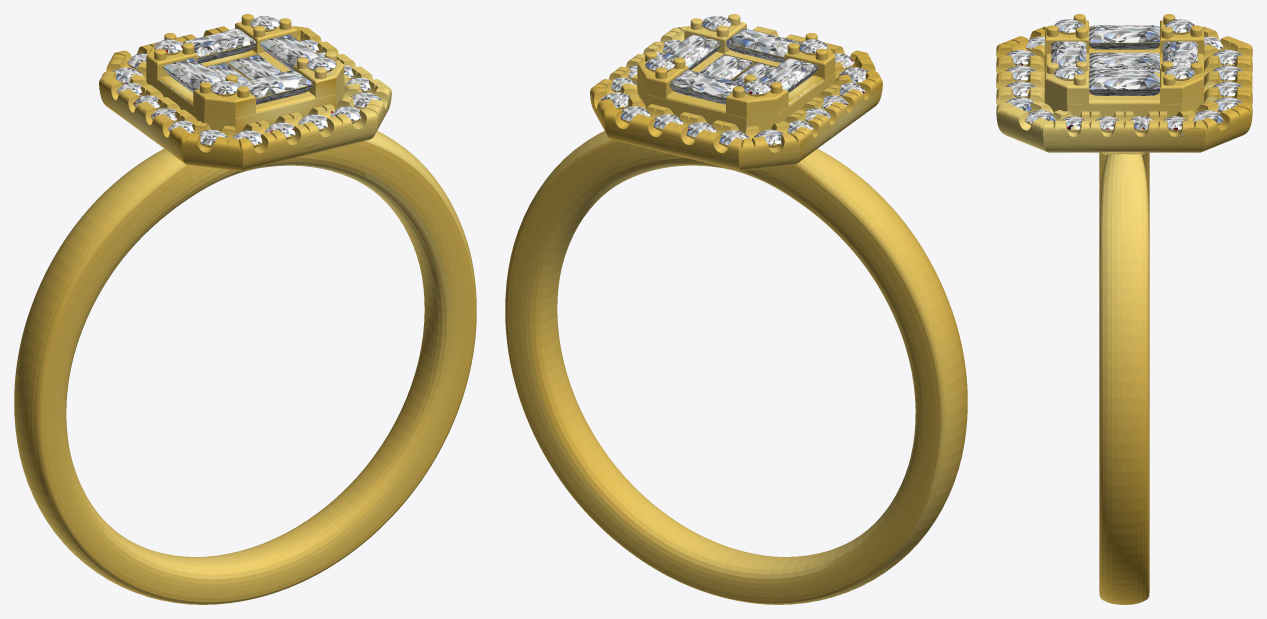
The model's file is C16.0143- Coloured.glb.
The picture shows the model from 3 angles, left to right: view 1: azimuth 30°, elevation 25°; view 2: azimuth 150°, elevation 25°; view 3: azimuth 270°, elevation 25°; orthographic projection.
Bounding box in the file's own units: 18 × 20.76 × 9.
4 materials, 4 textured.
